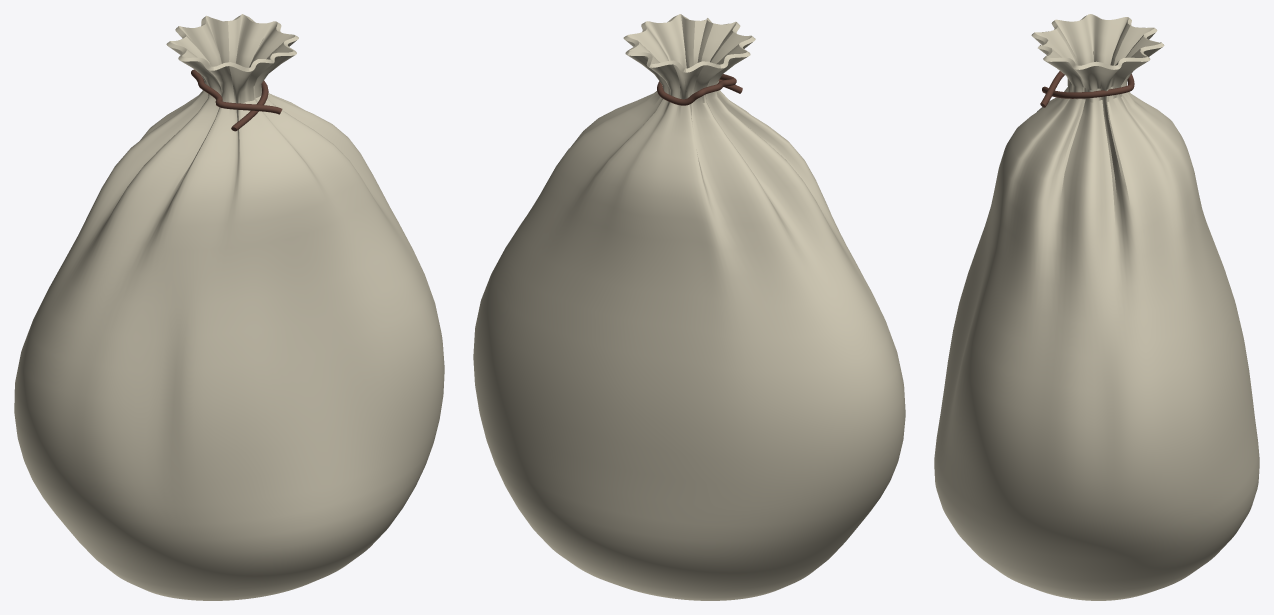
The model's file is costal1.fbx.
3 renders of one model, left to right at view 1: azimuth 30°, elevation 25°; view 2: azimuth 150°, elevation 25°; view 3: azimuth 270°, elevation 25°, orthographic.
Parts seen in each view (by area): view 1: Circle, BezierCurve; view 2: Circle, BezierCurve; view 3: Circle, BezierCurve.
Boxes of the visible parts, box(x1,y1,x2,y2) form: Circle: box(14, 14, 444, 600); BezierCurve: box(191, 69, 282, 131); Circle: box(473, 14, 905, 600); BezierCurve: box(657, 74, 742, 105); Circle: box(934, 14, 1259, 600); BezierCurve: box(1040, 71, 1134, 107).
Bounding box in the file's own units: 455 × 579 × 322.
2 materials, 1 textured.
